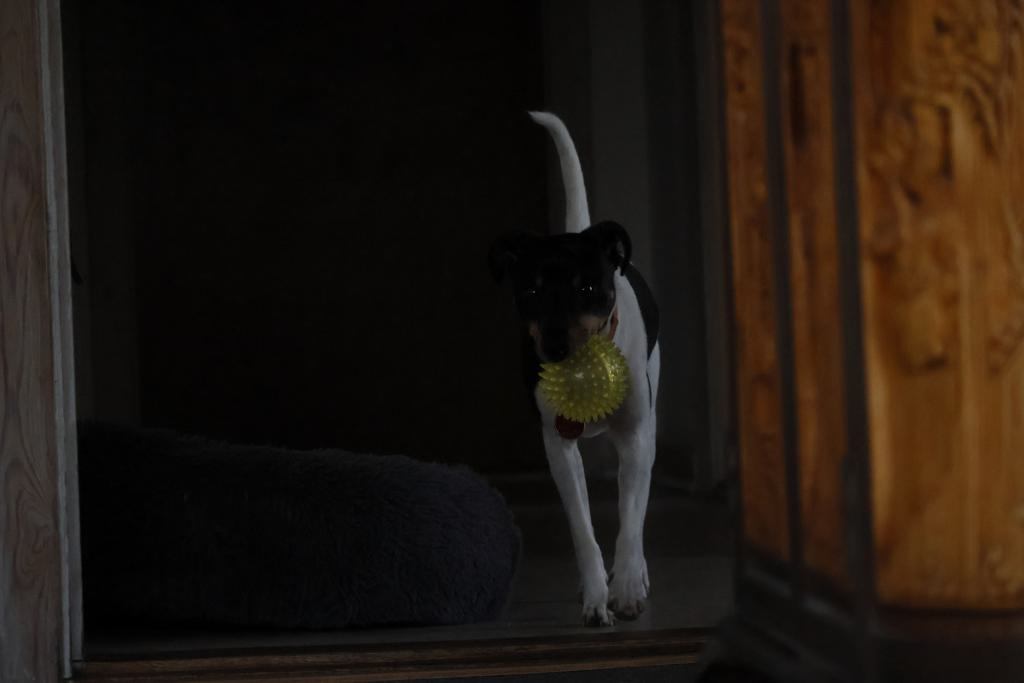Dog: (495, 98, 695, 639)
